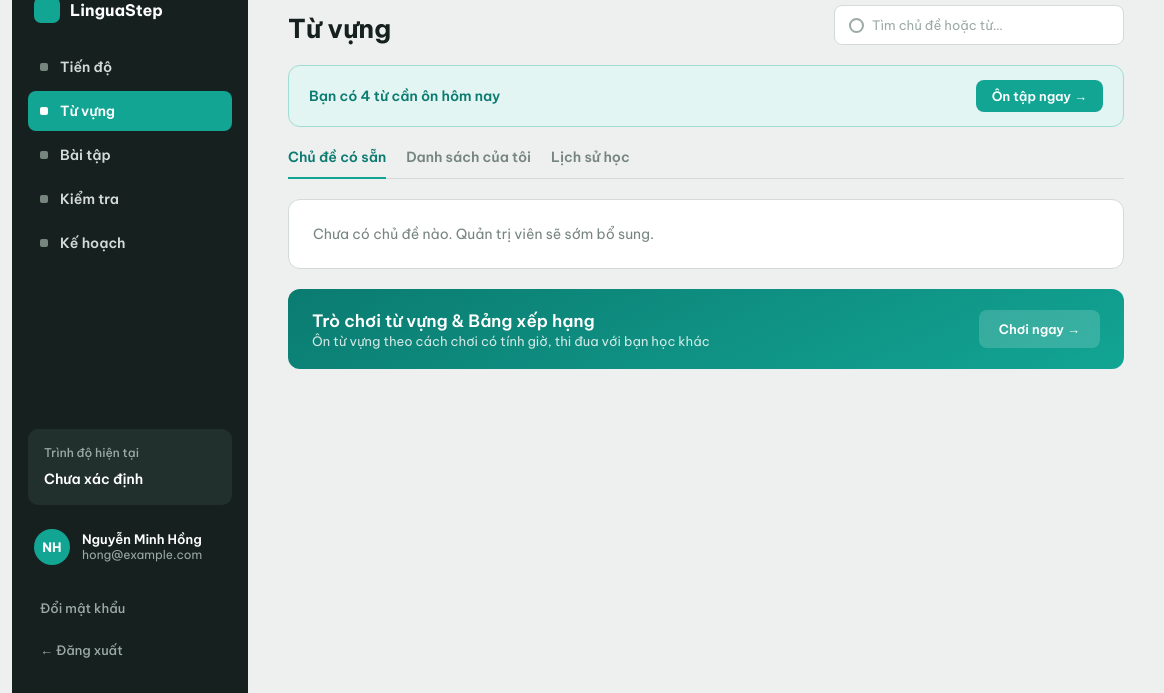
history tab › is reached from the tab bar and marked as the current tab
This screenshot has width=1164, height=693.
Click the link "Lịch sử học". click: (590, 157)
box: [551,148,630,166]
(page scrolled)
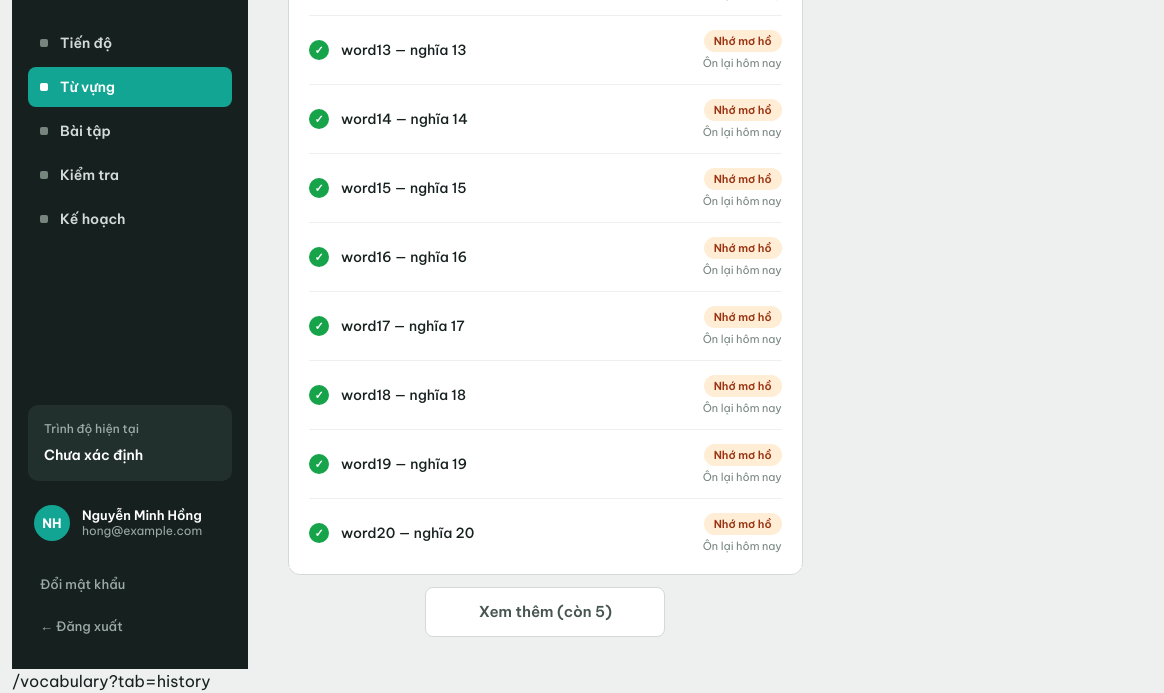
Check: the text with test id "location" reads "/vocabulary?tab=history", box [12,671,211,691]
